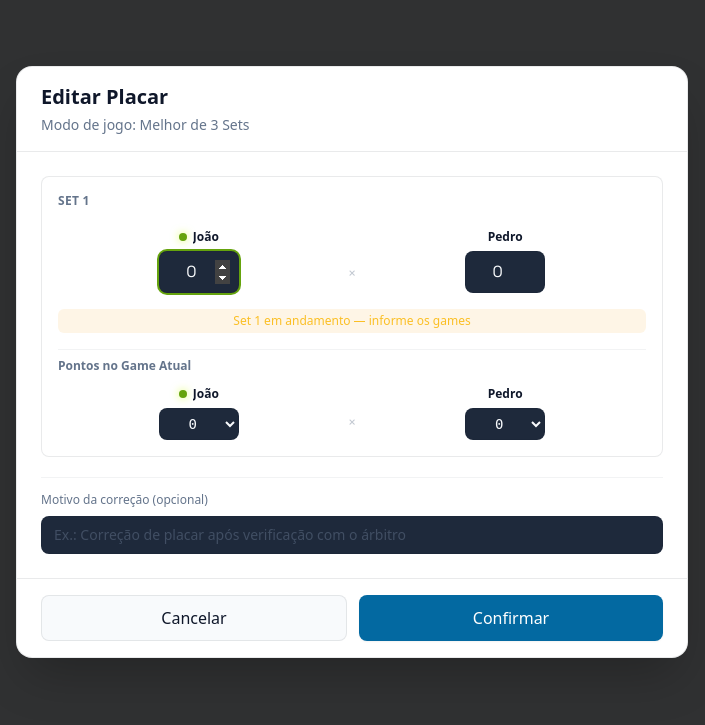
Test: EditScoreModal - Confirmar Set Button › Score like 6x5 (set tiebreak required) should not show Confirmar Set › should not show Confirmar Set when typing 6-5
Type "6" into the number field with placeholder "0".
click(199, 272); type("6")  # box [159,251,239,293]
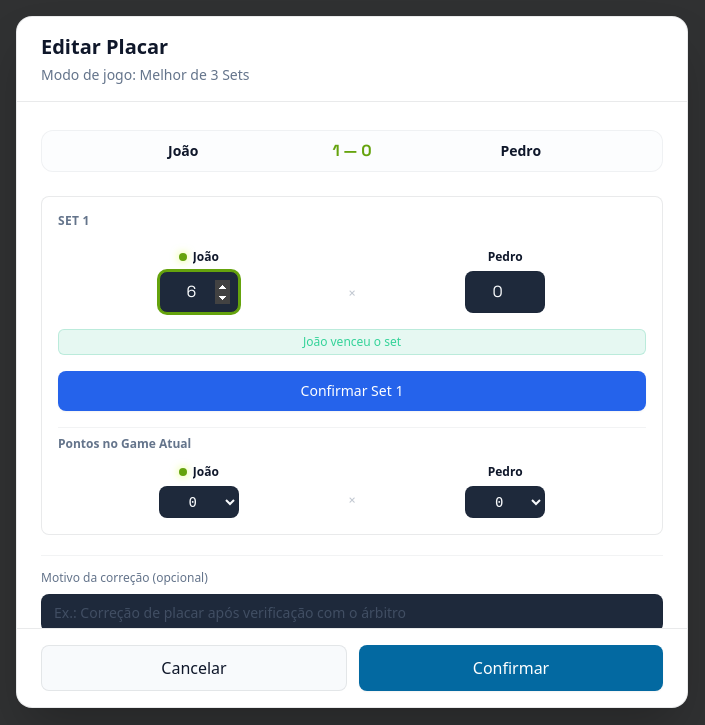
Type "5" into the number field with placeholder "0".
click(505, 292); type("5")  # box [465,271,545,313]
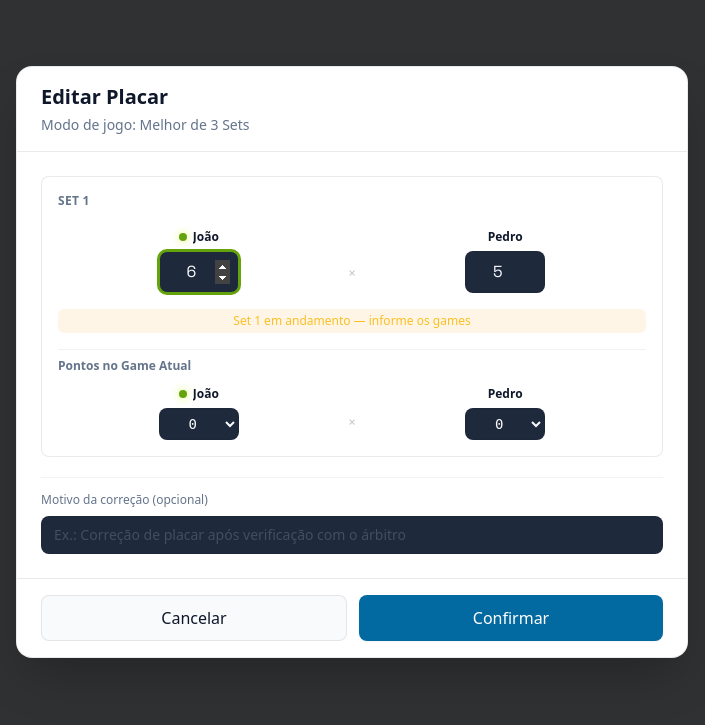
Now the button "Confirmar Set" is gone
Now the text "Set 1 em andamento — informe os games" is shown, box [58,309,646,333]
